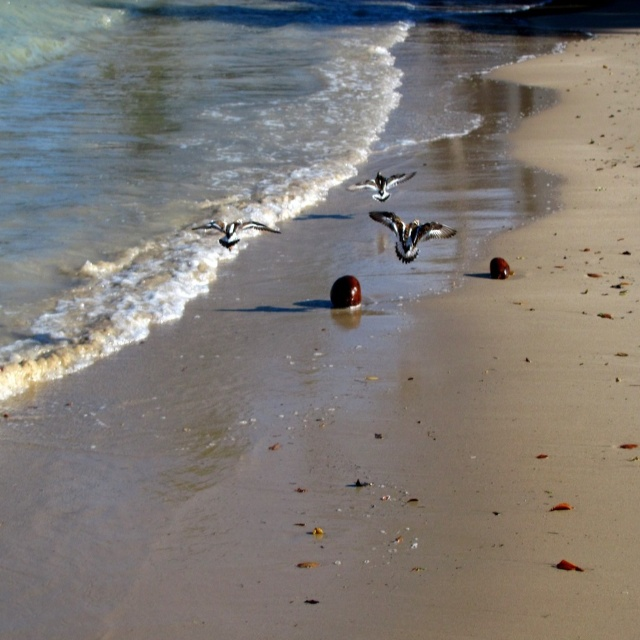Duck: (368, 209, 456, 264), (195, 212, 280, 251), (349, 169, 413, 199)
